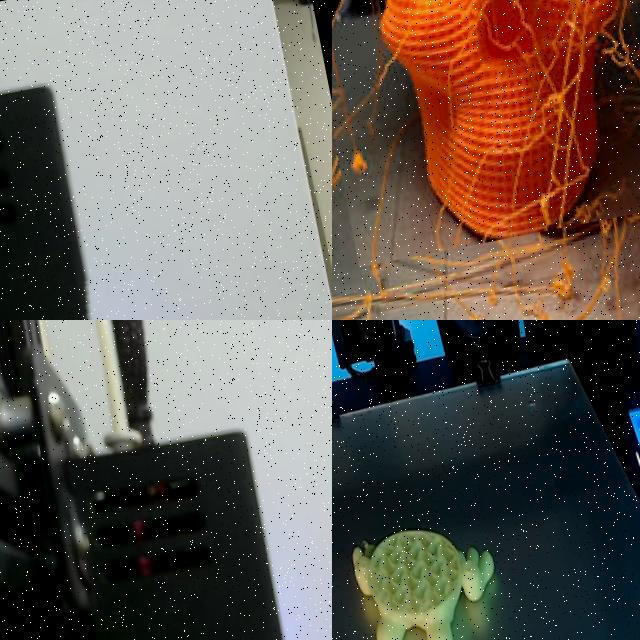spaghetti: (389, 0, 630, 235), (332, 0, 466, 320), (469, 236, 627, 320)
